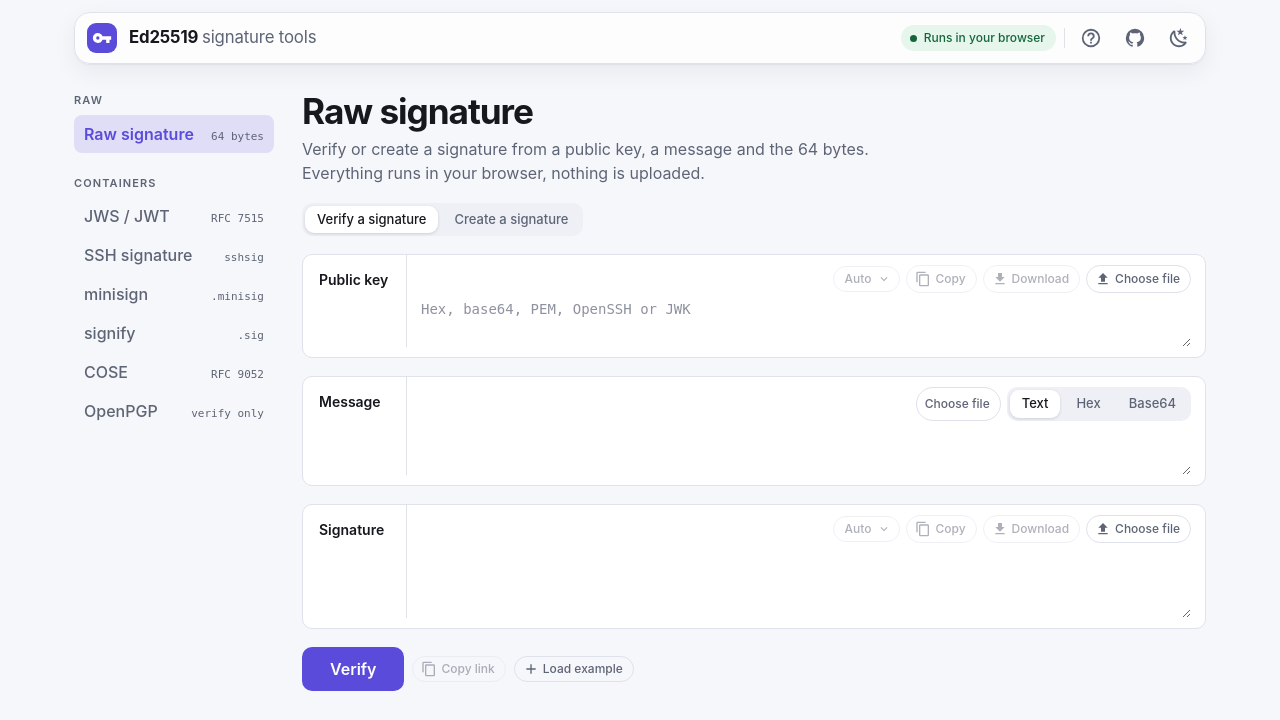
the help dialog › closes with the close button and gives the focus back to the button that opened it
Click the button named "What is this?".
click(1091, 38)  # box 1073,20 -> 1109,56
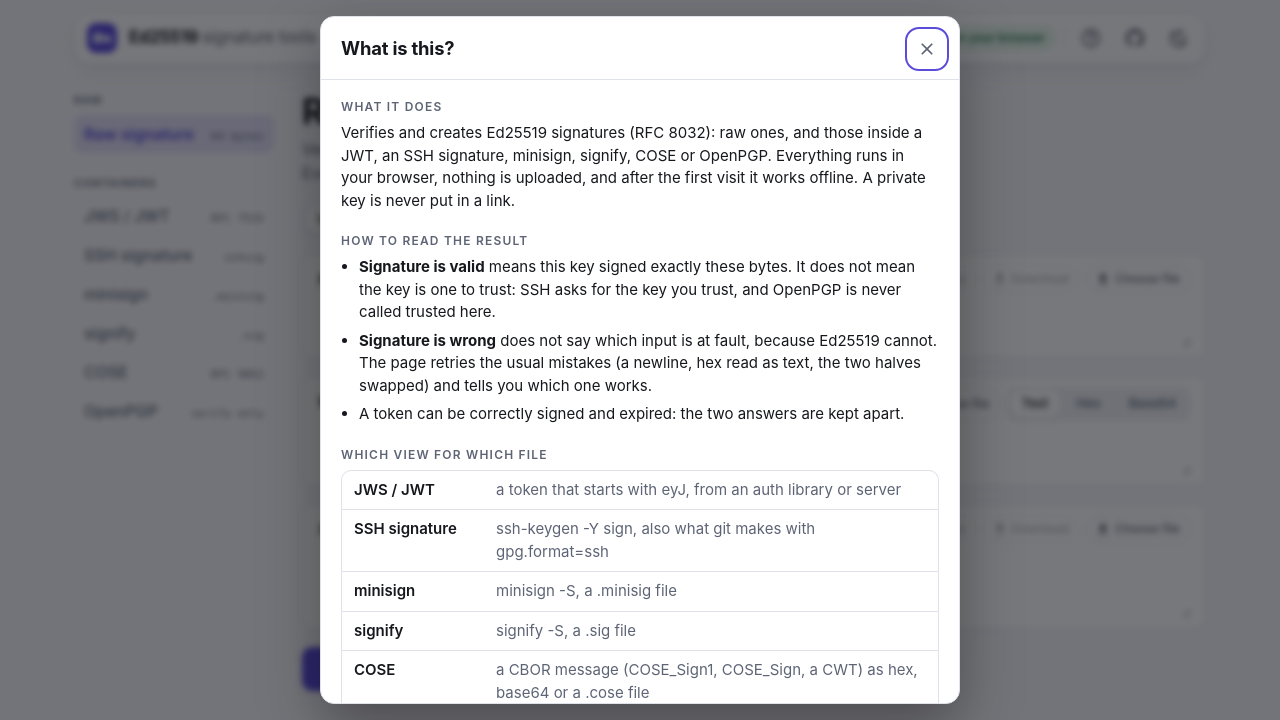
Click the button named "Close".
click(927, 49)  # box 909,31 -> 945,67
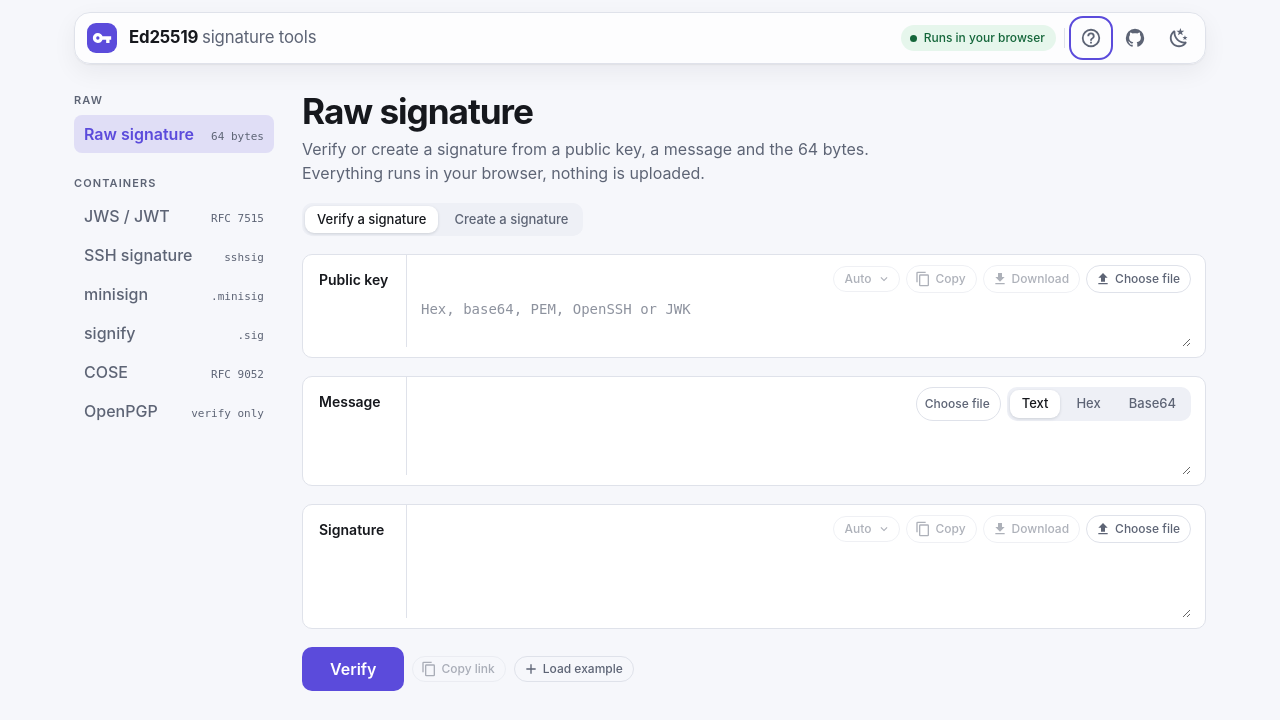
Check: the dialog is gone
